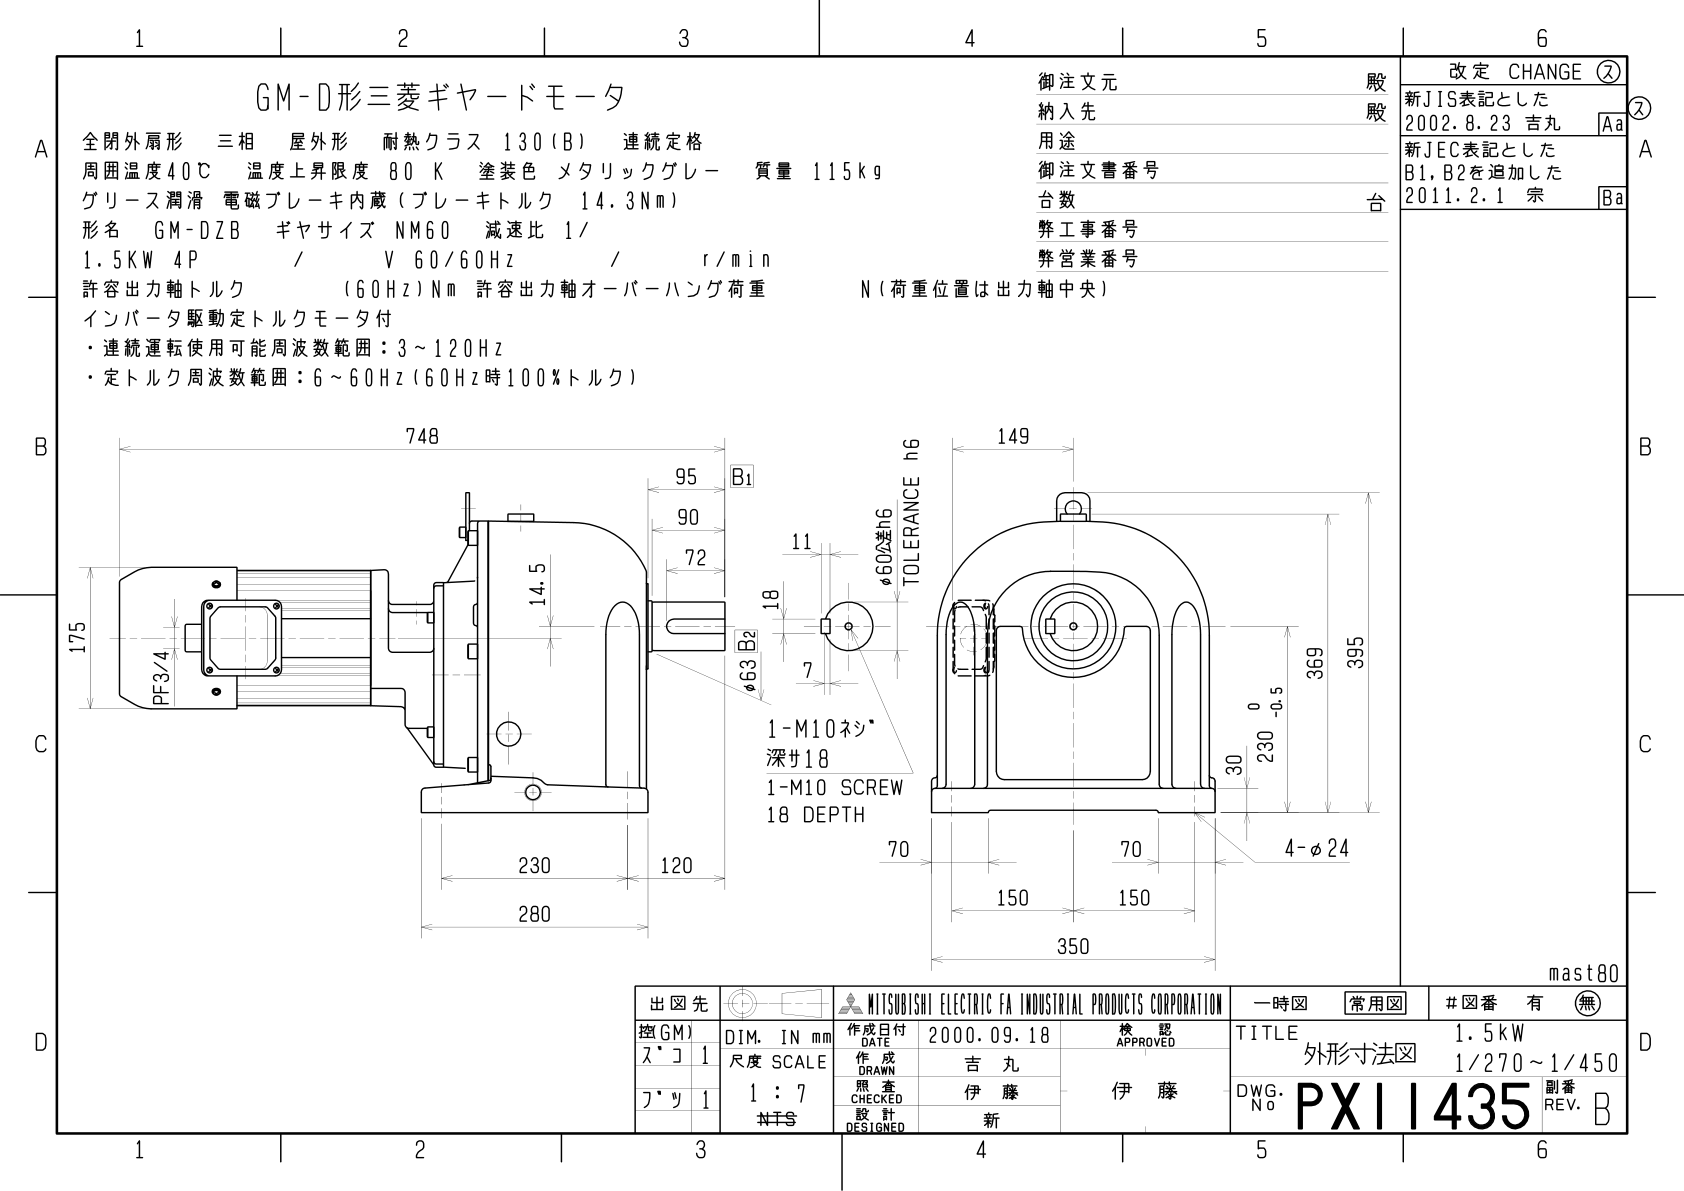GM_D_インバータ屋外_三相_脚: (58, 400, 1392, 971)
